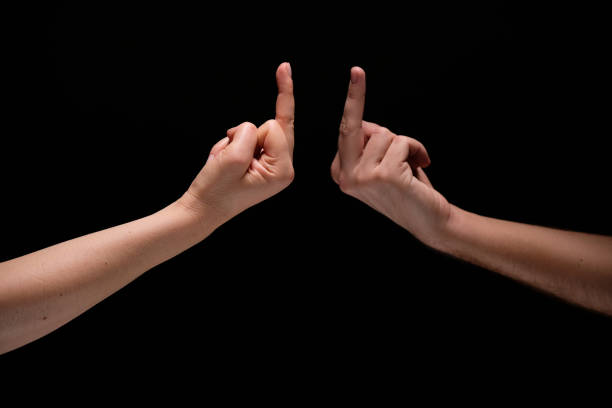insulting_gesture: (328, 64, 440, 225), (201, 56, 297, 217)
